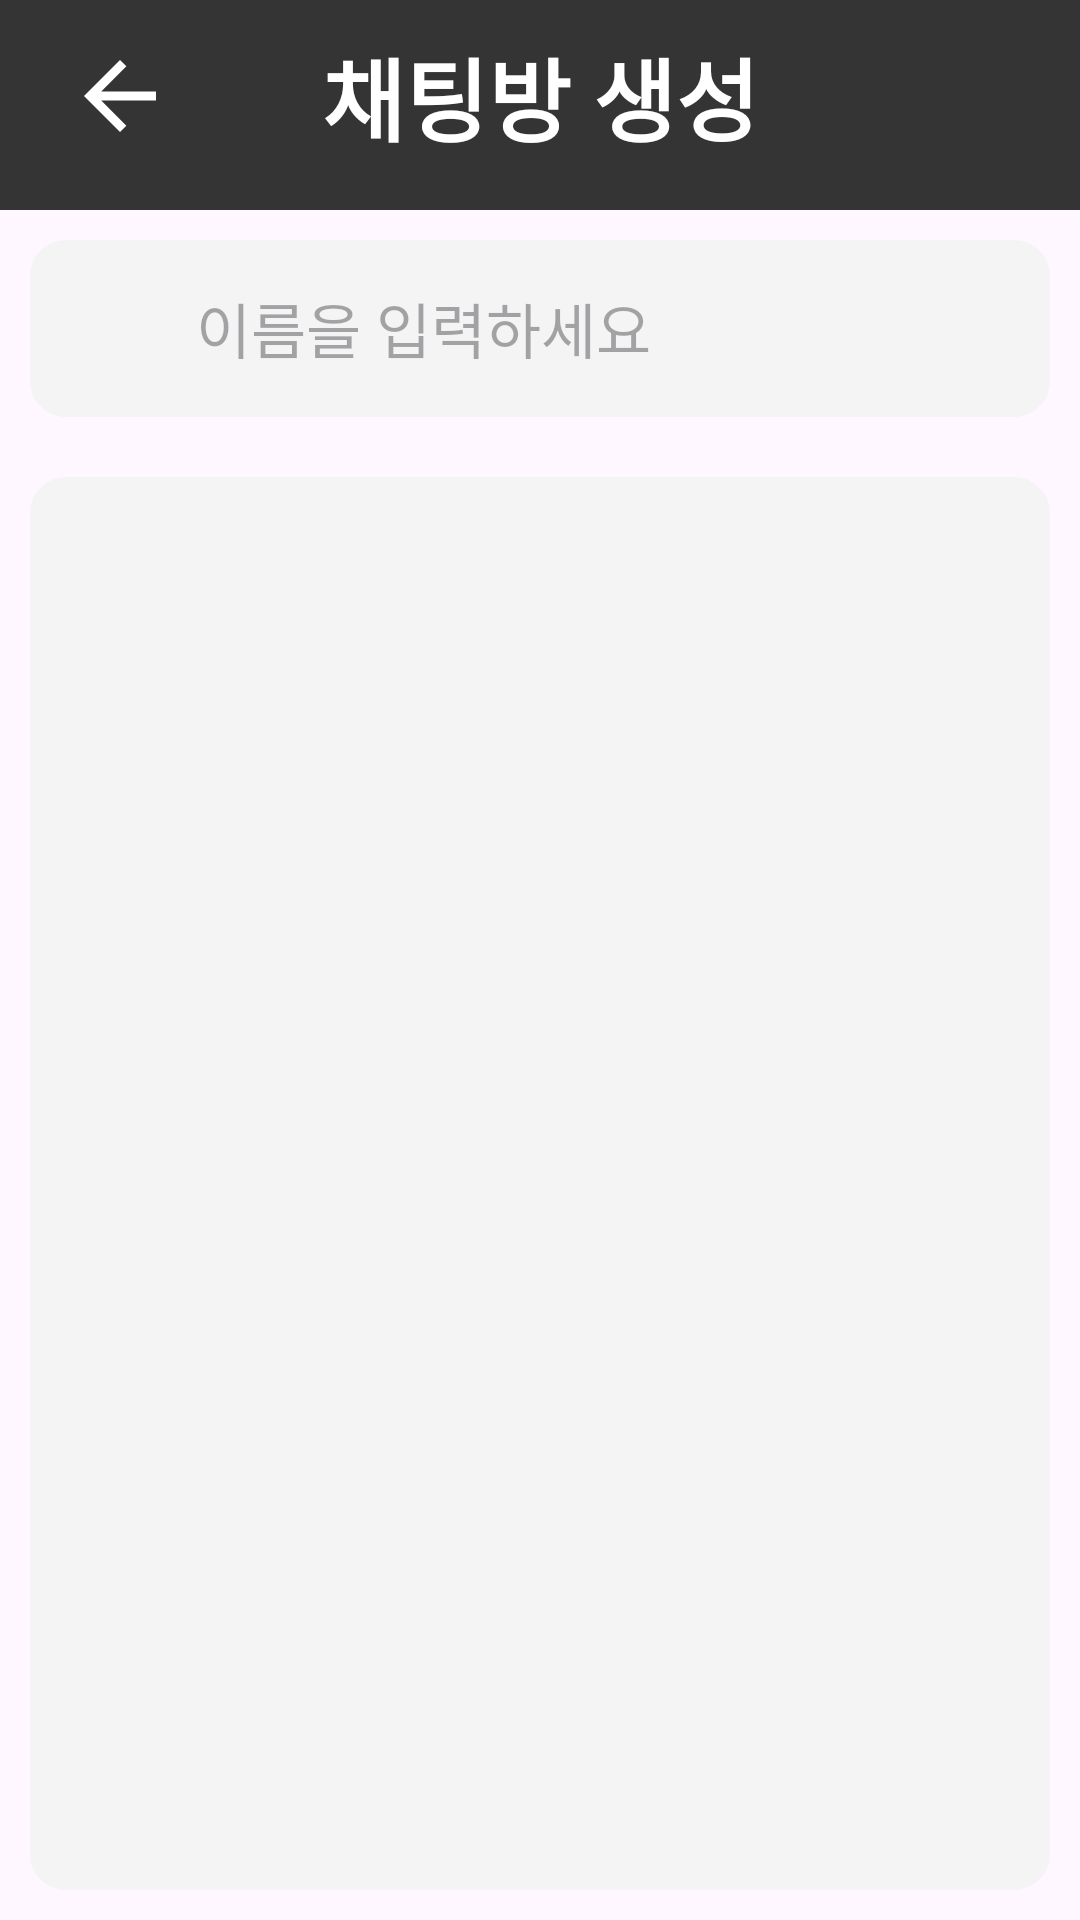

Screen size 1080 × 1920. Icon name, then its center in pixels as (x=x, y=y):
chattingroom back: (x=120, y=96)
